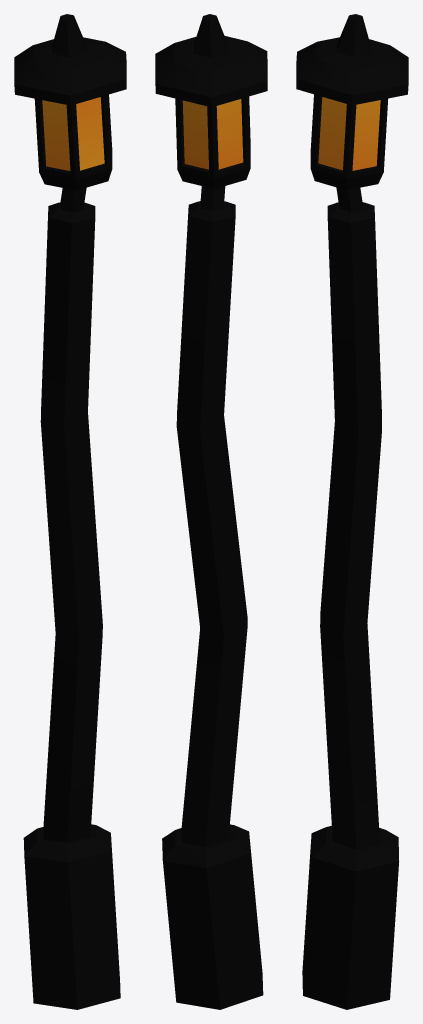
File: LampPost.fbx
The picture shows the model from 3 angles, left to right: view 1: azimuth 90°, elevation 25°; view 2: azimuth 150°, elevation 25°; view 3: azimuth 270°, elevation 25°; orthographic projection.
Parts seen in each view (by area): view 1: Lamp; view 2: Lamp; view 3: Lamp.
Part boxes in pixels (left/top/right/bottom): Lamp: left=14, top=14, right=126, bottom=1009; Lamp: left=155, top=14, right=267, bottom=1009; Lamp: left=296, top=14, right=408, bottom=1009.
Bounding box in the file's own units: 89.68 × 748 × 77.97.
2 materials, 2 textured.
